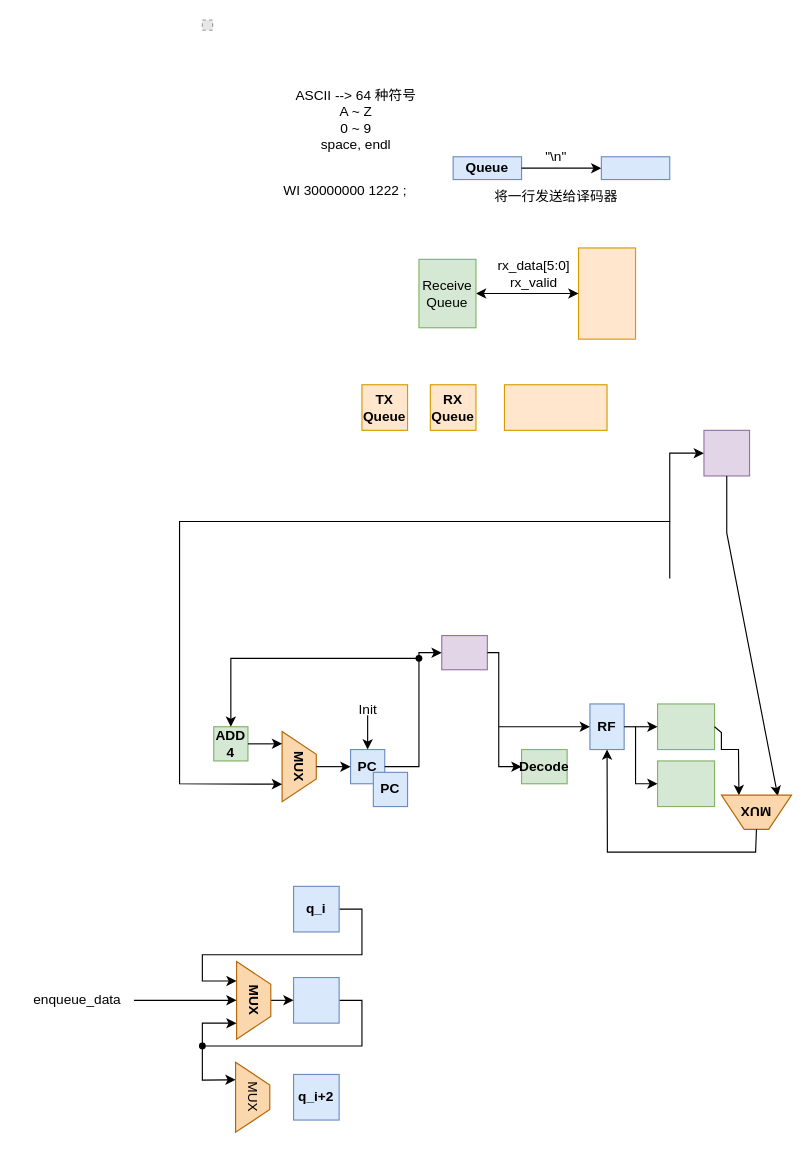
Image size: 812x1153. Some labels were removed from this diagram. Grey dashed boxes stand in for pictures. The centre of each missing label's shape, as x and y in pixels:
2-Decode: [606,293]
ADD: [685,726]
Branch: [685,783]
CPU MEM & RF: [555,407]
Decoder: [635,168]
DMem: [726,452]
IMem: [464,652]
q_i+1: [315,999]
